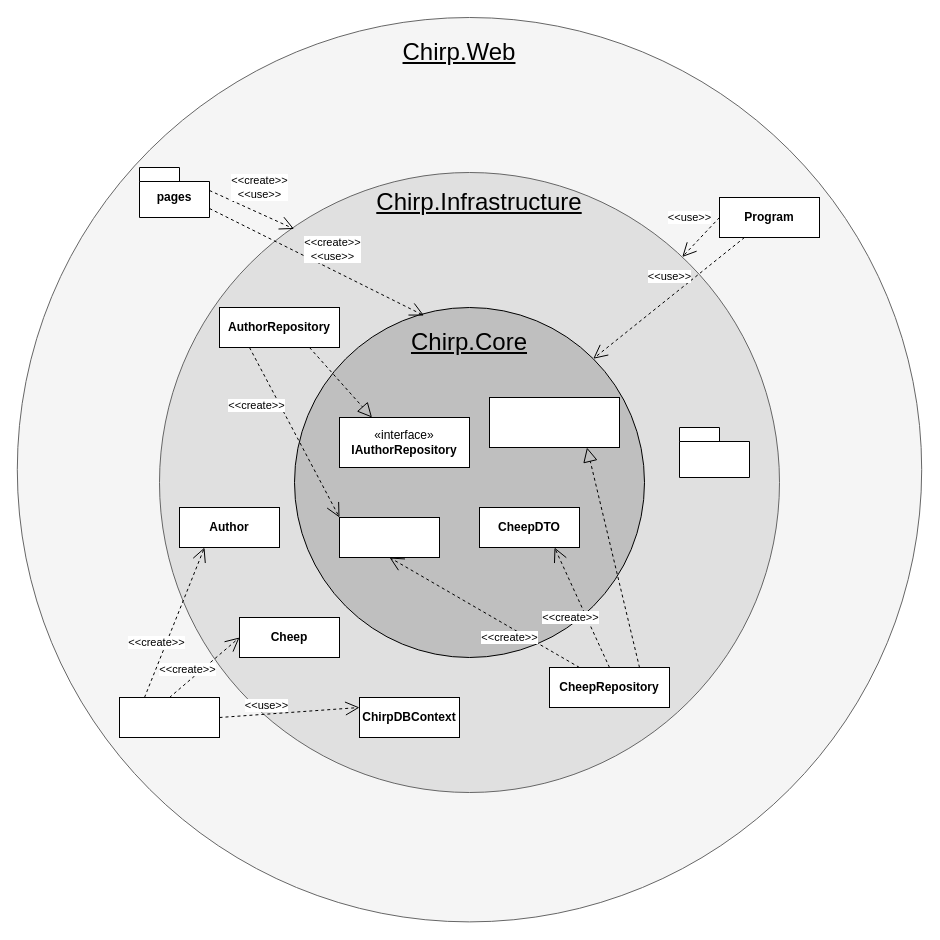
This 940x940 diagram has some shape labels left out. Each missing label, with the centre of its shape:
AuthorDTO: pixel 389 537
DbInitializer: pixel 169 717
Migrations: pixel 714 452
«interface» ICheepRepository: pixel 554 422
